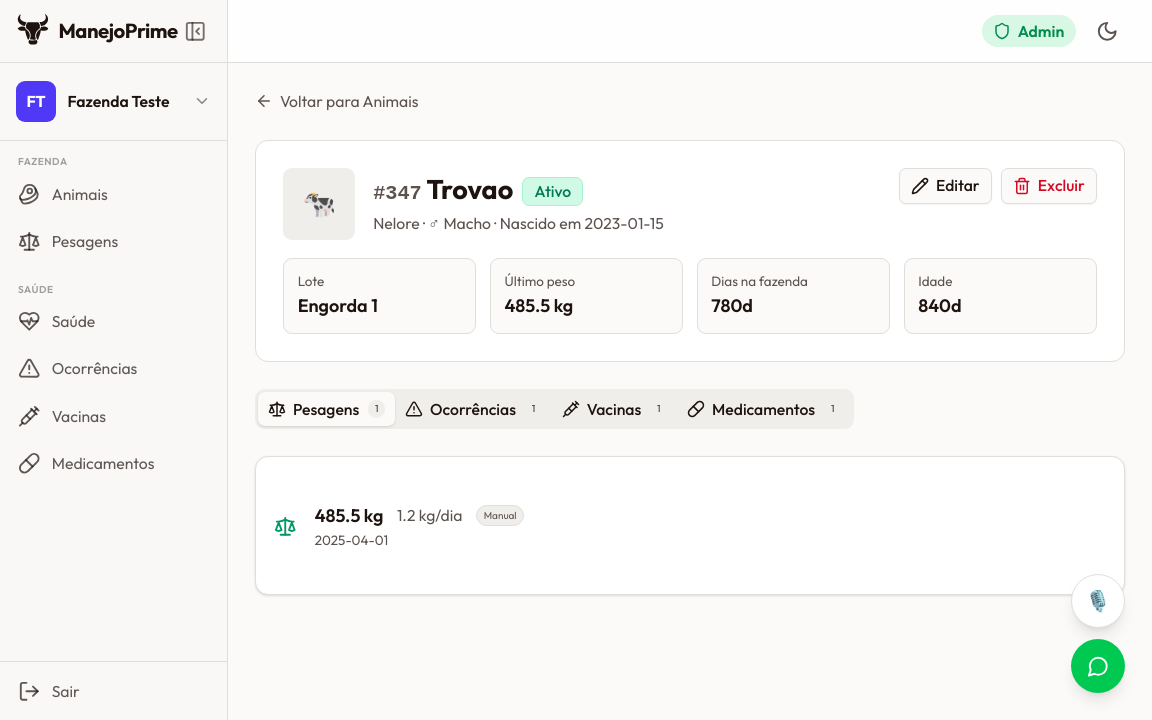
Test: animal detail page — delete › opens confirmation dialog when clicking excluir
Expected: the heading "#347 Trovao" is shown, [373,172,513,210]
Click the button "Excluir": (1049, 186) [1001,168,1097,204]
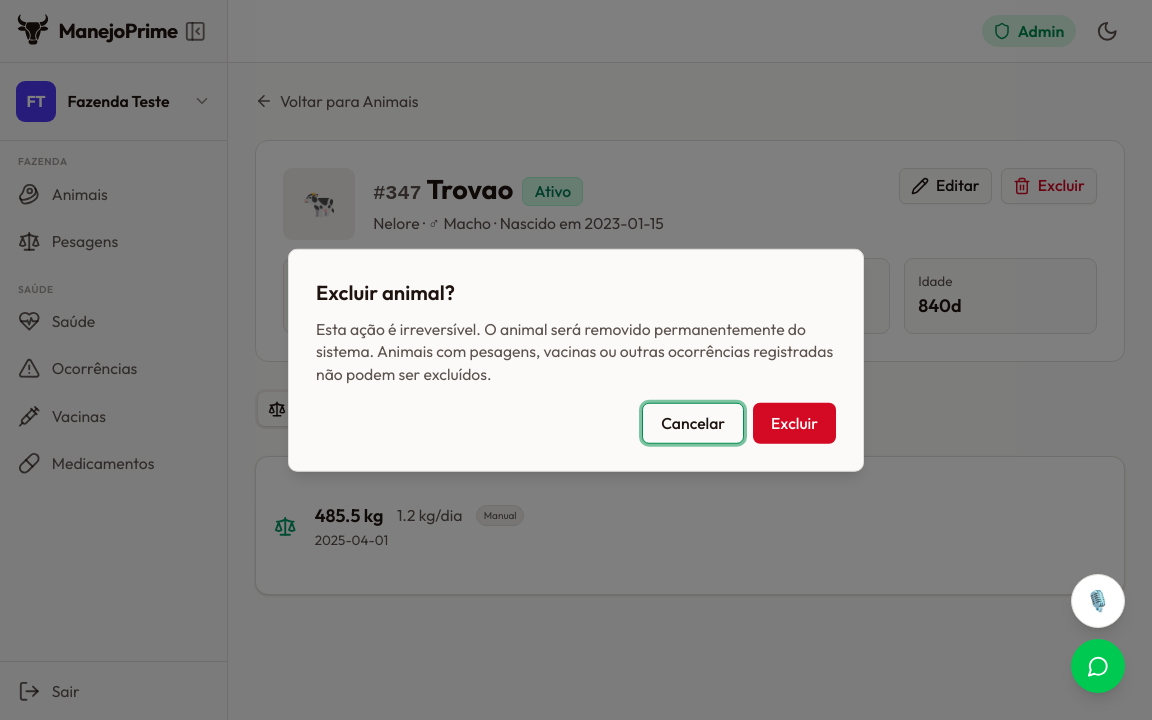
Expected: the text "Esta ação é irreversível" is shown, [316,318,833,383]
